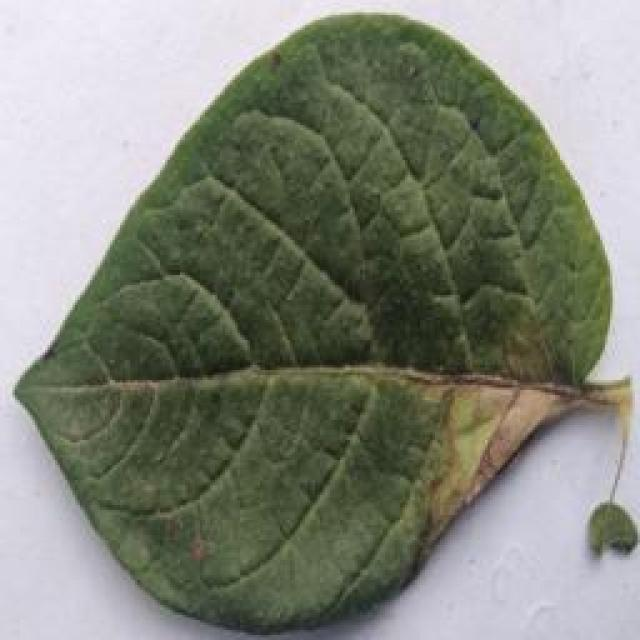Potato_Late_Blight: (10, 6, 639, 640)
